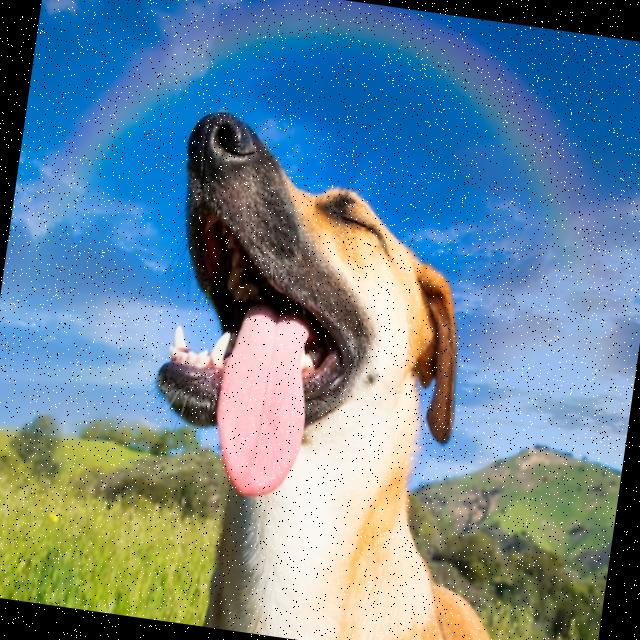Dog: (122, 104, 583, 640)
